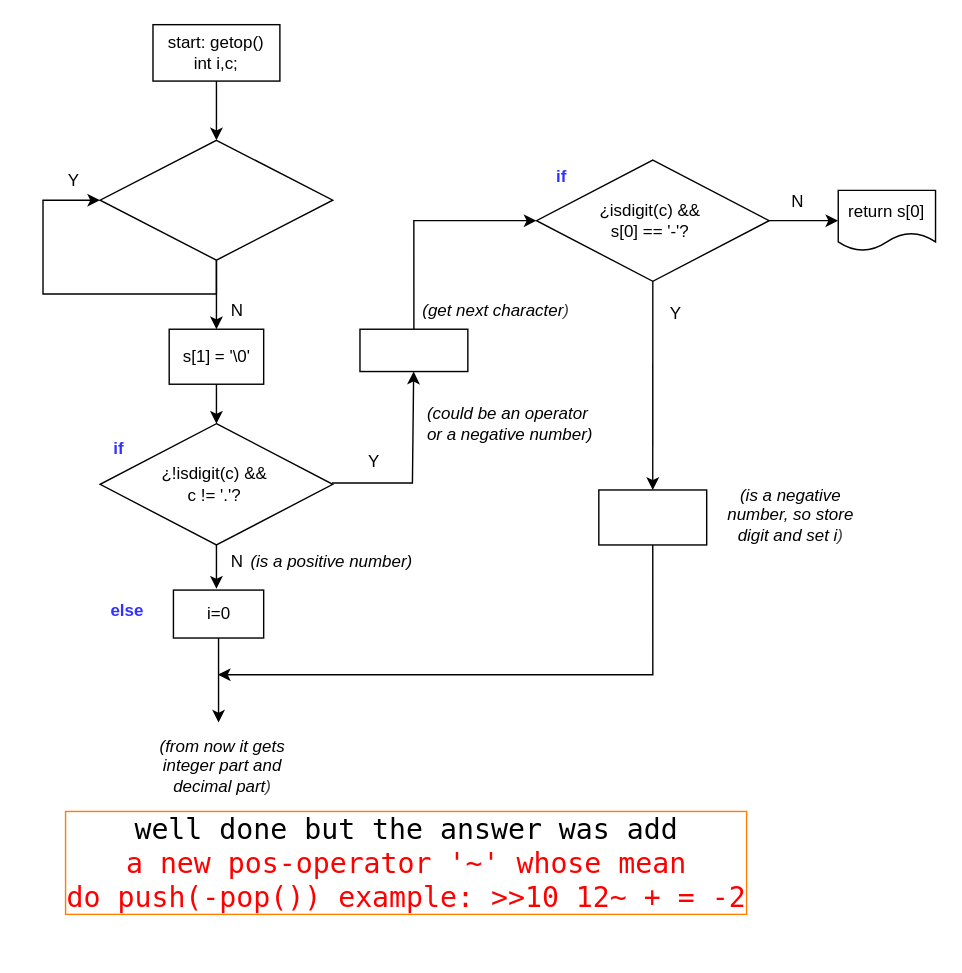
This 962x973 diagram has some shape labels left out. The centre of each missing label's shape, as x and y in pixels:
c = getch(): pixel 413 350
s[0] = c = getch() ¿c == ' ' || c == '\t"?: pixel 216 199
s[1] = c; i = 1;: pixel 652 517
